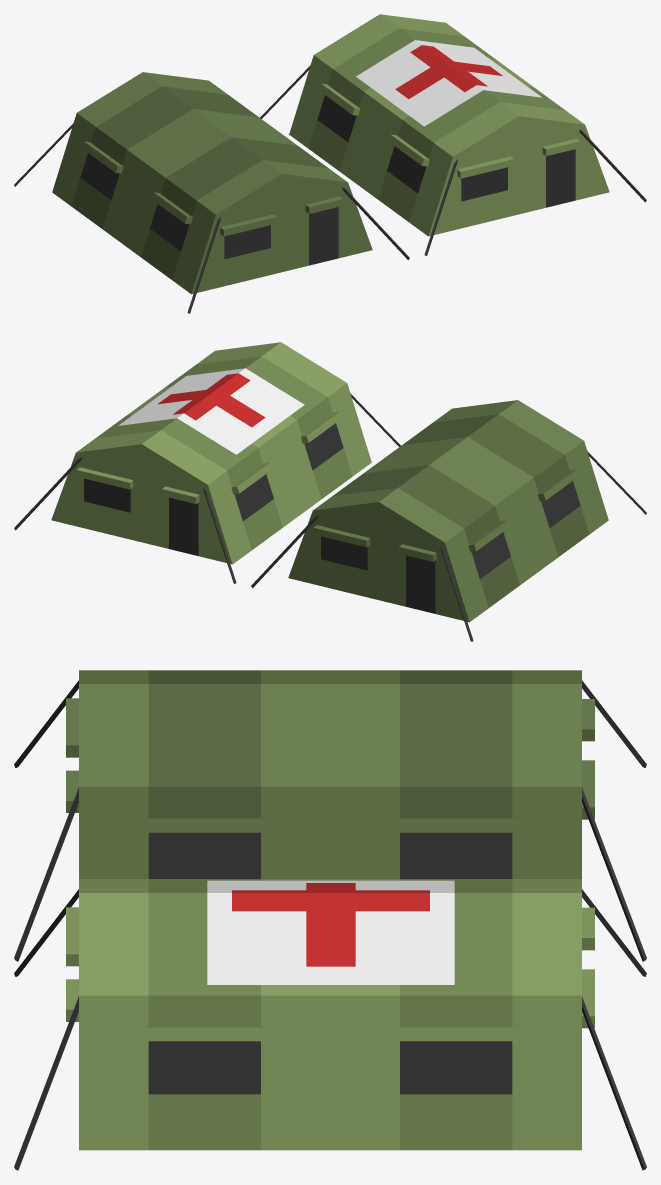
The model's file is Tent.FBX.
3 views of the same model, one above another, from view 1: azimuth 30°, elevation 25°; view 2: azimuth 150°, elevation 25°; view 3: azimuth 270°, elevation 25° (orthographic). The views are drawn at different scales.
Parts seen in each view (by area): view 1: tent_01, tent_02; view 2: tent_01, tent_02; view 3: tent_02, tent_01.
Part boxes in pixels (x1,y1,x2,y2): tent_01: (14,72,409,313); tent_02: (260,14,646,255); tent_01: (251,400,646,641); tent_02: (14,342,400,583); tent_02: (14,879,646,1170); tent_01: (14,670,646,961).
Bounding box in the file's own units: 1938 × 404 × 1281.
Materials: 1 (1 with a texture image).
